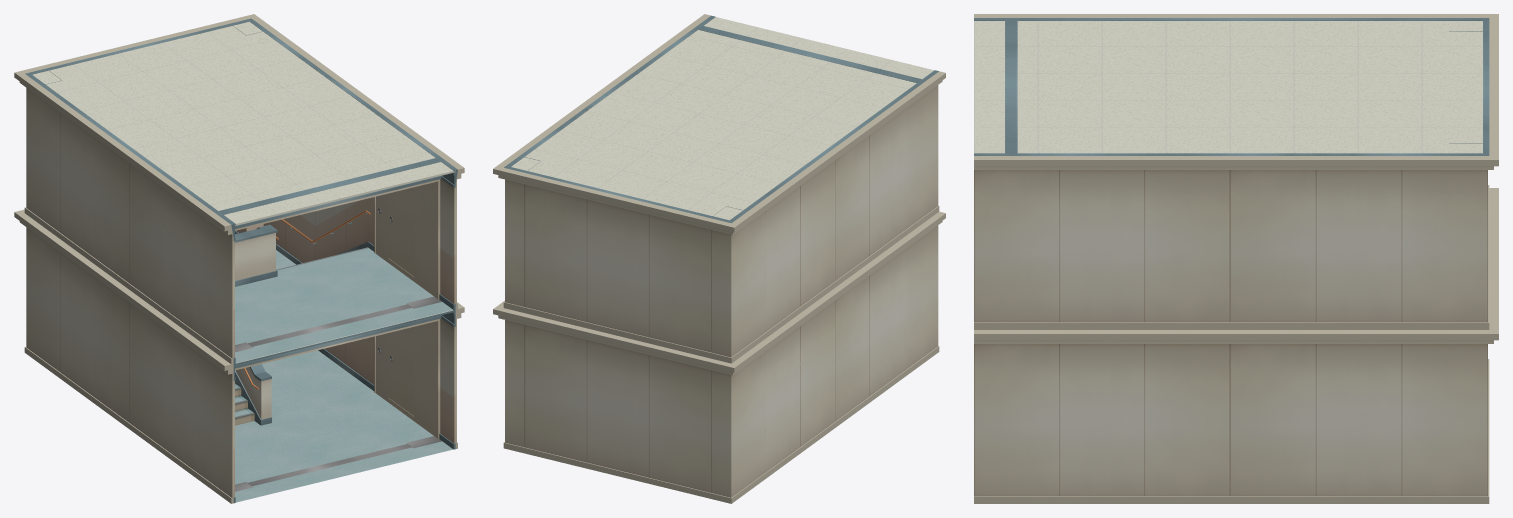
The model's file is SHW_Stairs_01_05.fbx.
The picture shows the model from 3 angles, left to right: view 1: azimuth 30°, elevation 25°; view 2: azimuth 150°, elevation 25°; view 3: azimuth 270°, elevation 25°; orthographic projection. The views are drawn at different scales.
Visible parts, largest first — view 1: wall_01, ceiling_01, floor_01, door_R (×2), fire_door_01 (×2), door2_R (×2); view 2: wall_01, ceiling_01; view 3: wall_01, ceiling_01.
Part boxes in pixels (x1=…): wall_01: x1=14, y1=14, x2=464, y2=503; ceiling_01: x1=32, y1=21, x2=455, y2=363; floor_01: x1=235, y1=252, x2=453, y2=502; door_R (×2): x1=375, y1=181, x2=437, y2=438; fire_door_01 (×2): x1=235, y1=179, x2=441, y2=491; door2_R (×2): x1=388, y1=187, x2=414, y2=416; wall_01: x1=493, y1=14, x2=945, y2=503; ceiling_01: x1=511, y1=17, x2=933, y2=220; wall_01: x1=974, y1=14, x2=1498, y2=503; ceiling_01: x1=974, y1=21, x2=1482, y2=153.
Size of the model in its own units: 540 by 600 by 820.
